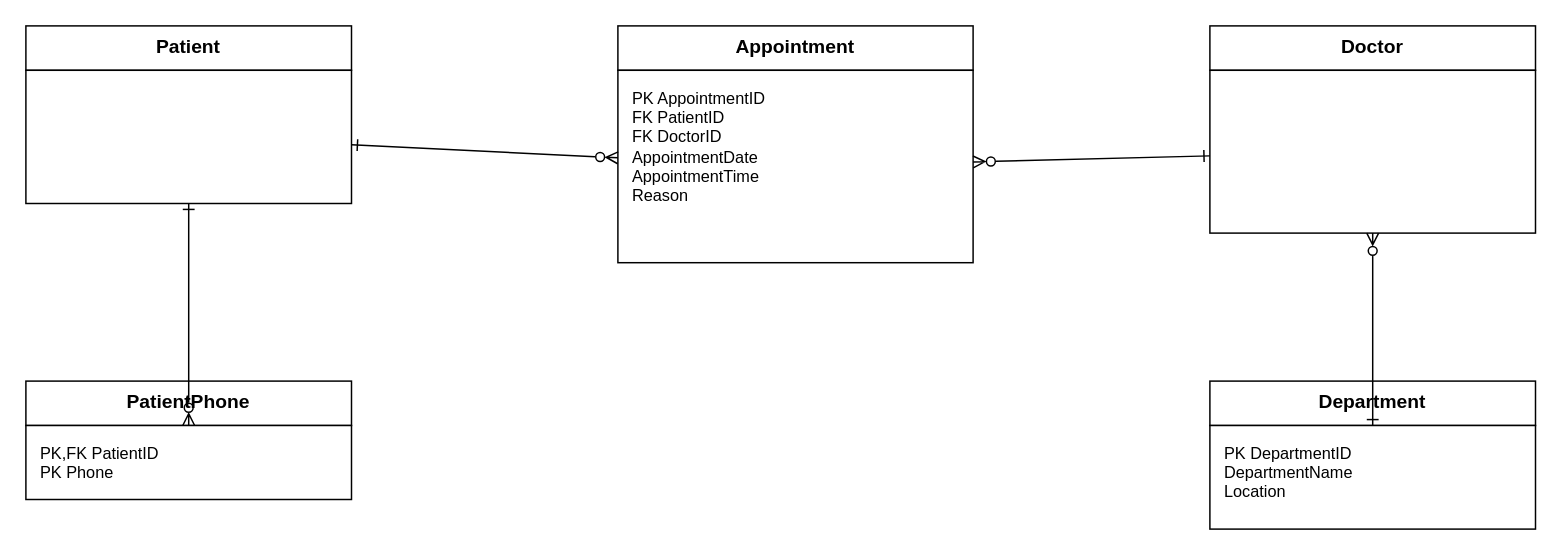
The diagram is 1561 pixels wide and 555 high, and some of its shapes have lost their labels. Each missing label, with the centre of its shape:
PK DoctorID DoctorName Speciality OfficeNumber FK DepartmentID: pixel 1372 151
PK PatientID PatientName DOB Email: pixel 188 136
